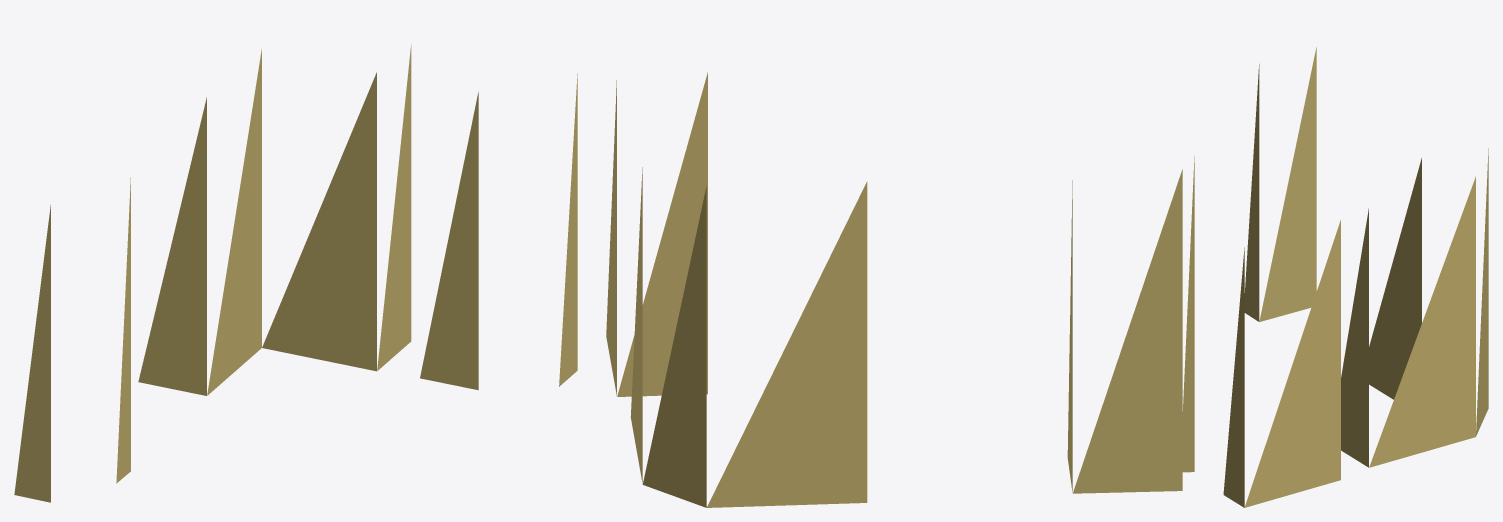
The picture shows the model from 3 angles, left to right: view 1: azimuth 30°, elevation 25°; view 2: azimuth 150°, elevation 25°; view 3: azimuth 270°, elevation 25°; orthographic projection. The views are drawn at different scales.
Size of the model in its own units: 168 by 87.5 by 80.59.
